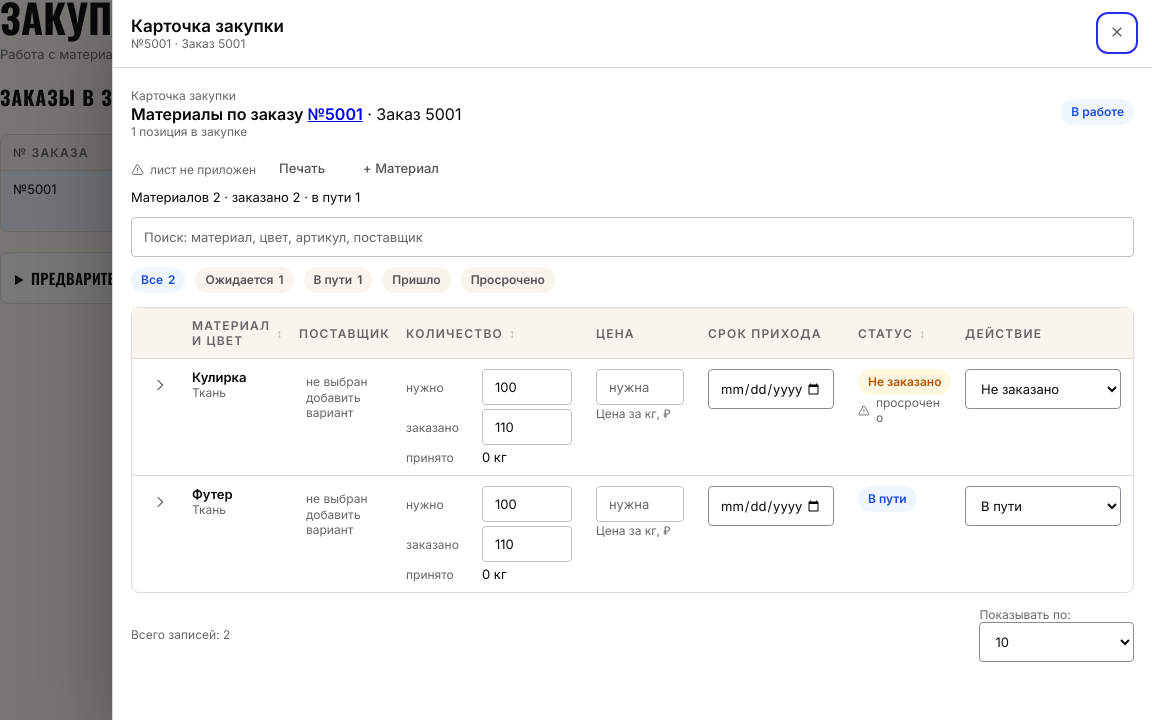
Test: Закупка — карточка в широкой панели › единственный заказ открывается сам, но после закрытия не возвращается
Click the button named "Закрыть" at [1117, 33], box [1100,16,1134,50]
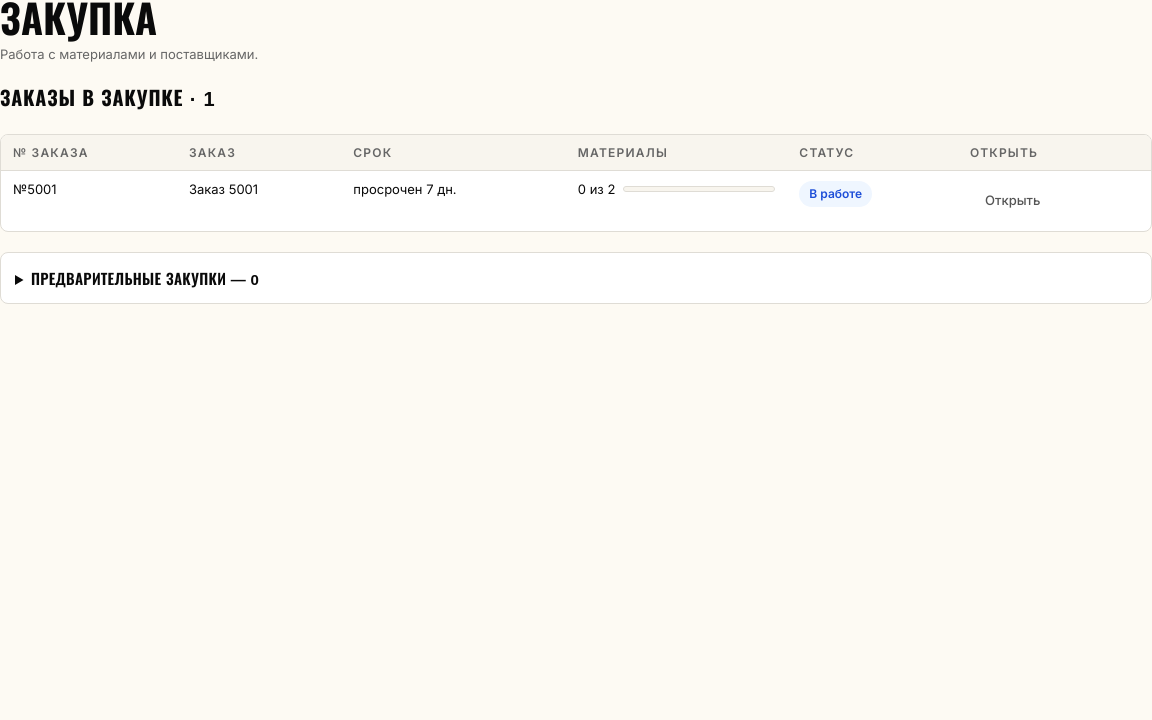
expect the dialog is gone: met
